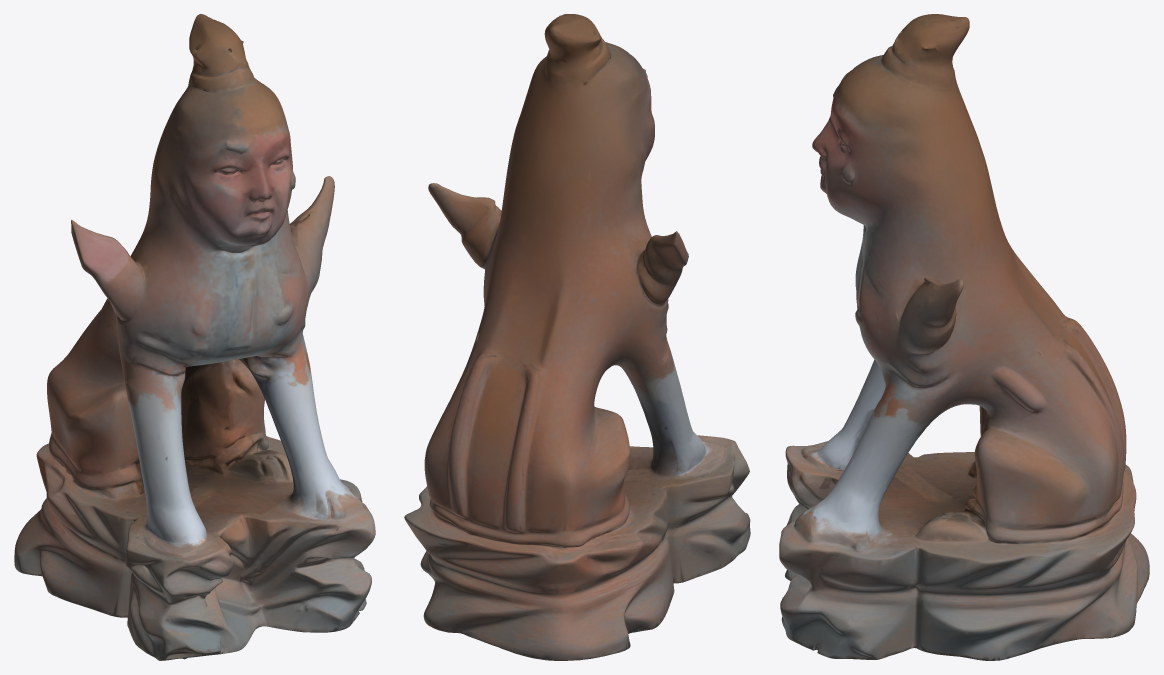
3 renders of one model, left to right at view 1: azimuth 30°, elevation 25°; view 2: azimuth 150°, elevation 25°; view 3: azimuth 270°, elevation 25°, orthographic. The views are drawn at different scales.
Parts seen in each view (by area): view 1: node_0; view 2: node_0; view 3: node_0.
Boxes of the visible parts, box(x1,y1,x2,y2) form: node_0: box(14, 14, 375, 660); node_0: box(404, 14, 750, 660); node_0: box(779, 14, 1149, 660).
Size of the model in its own units: 0.4874 by 1.01 by 0.5773.
Materials: 1 (1 with a texture image).
